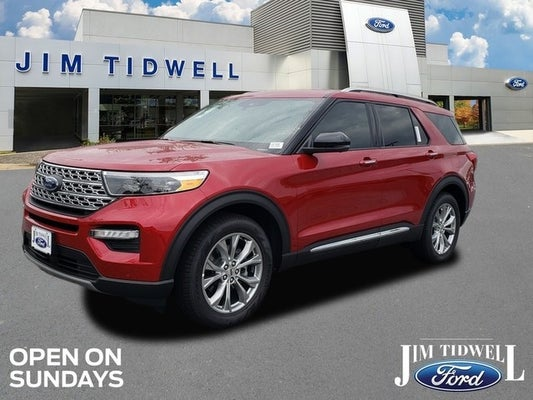Ford Explorer: (20, 87, 477, 328)
